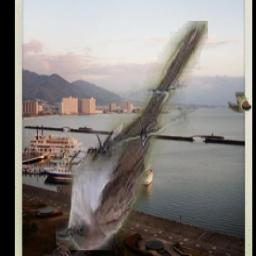Cuckoo: (56, 22, 208, 251)
Swallow: (227, 92, 251, 113)
